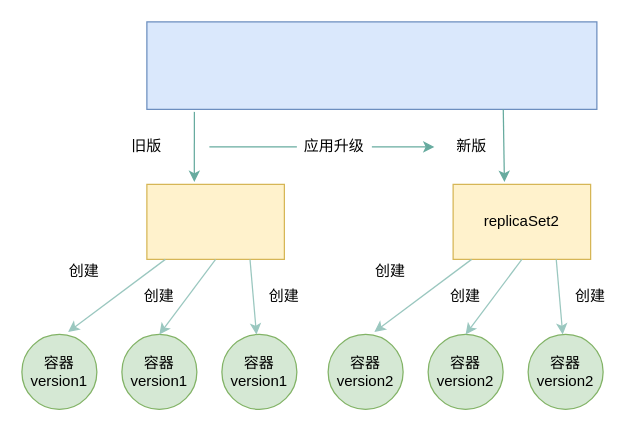
The diagram is 638 pixels wide and 431 high, and some of its shapes have lost their labels. The box of each missing label's shape, as (x1, y1, x2, y2) in pixels:
deployment: (146, 21, 597, 109)
replicaSet: (146, 183, 284, 259)
